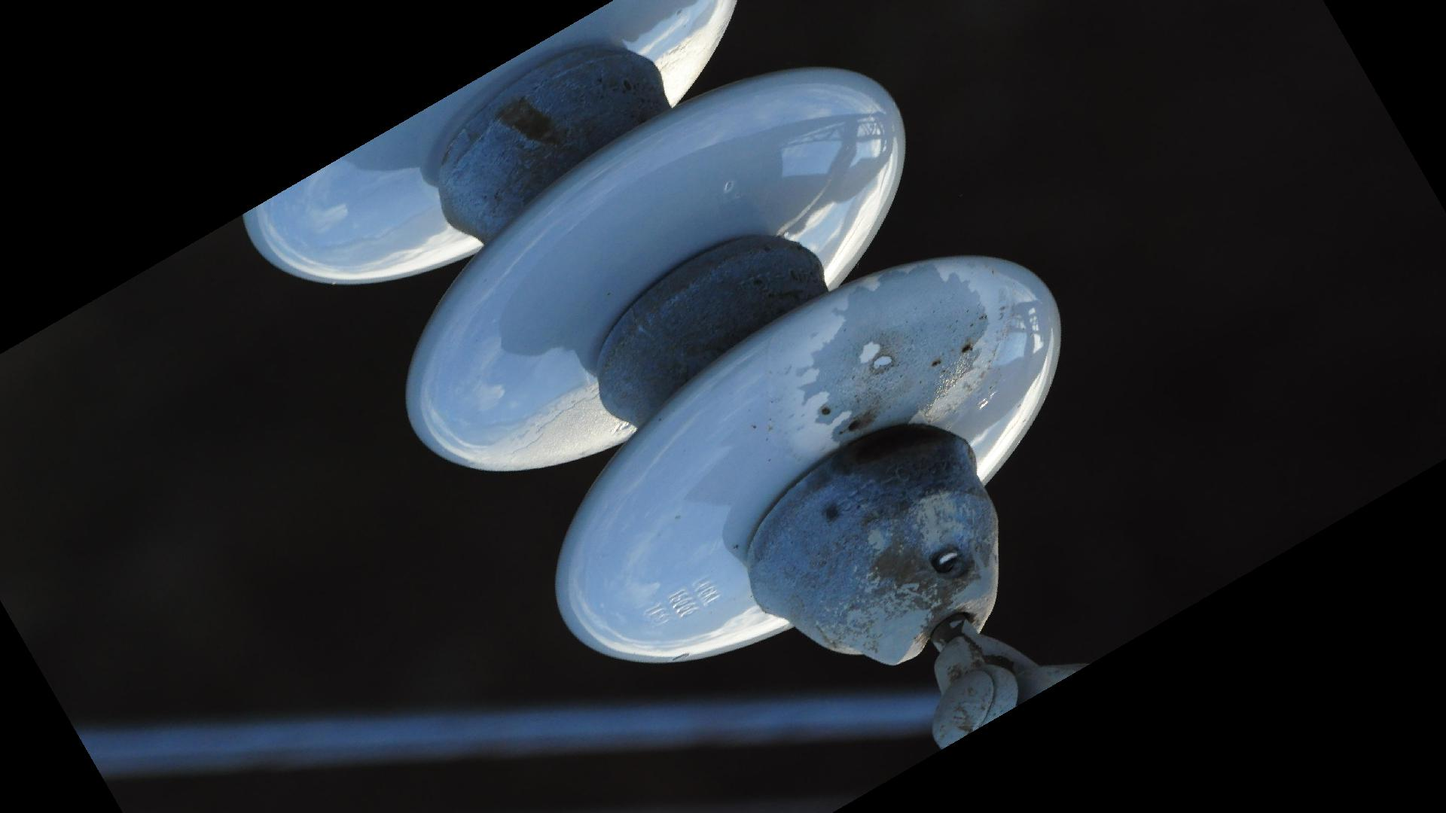insulator: (231, 1, 1075, 677)
insulator_flashover: (802, 261, 993, 449)
